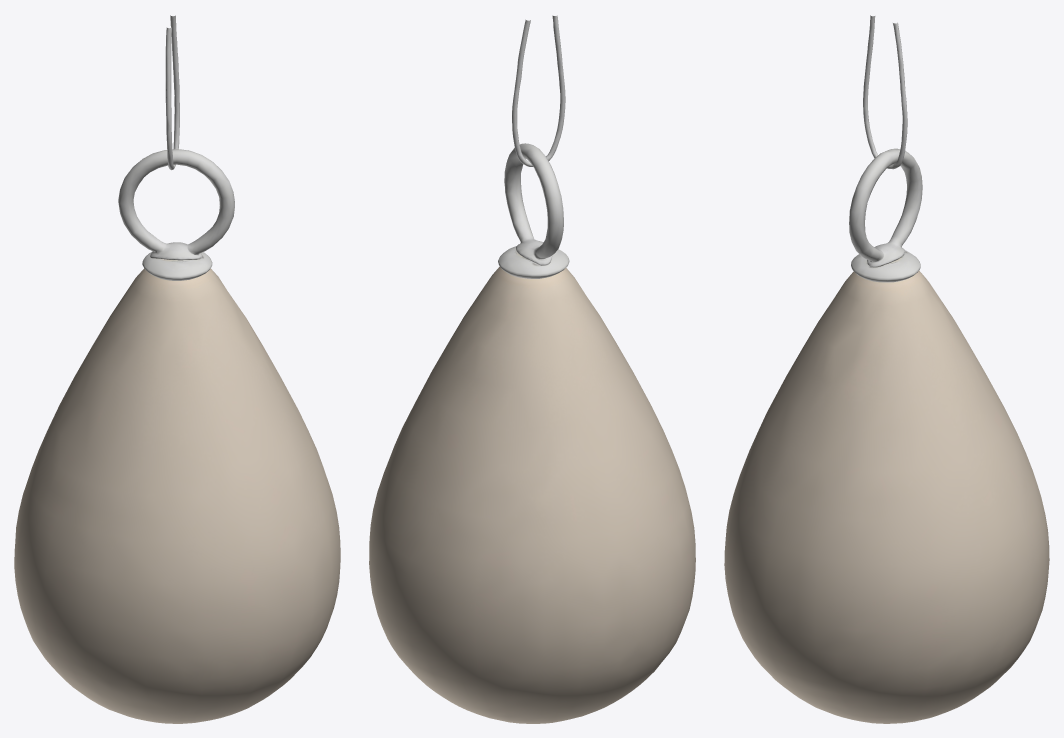
Rendered from soft-light-drop.glb.
3 renders of one model, left to right at view 1: azimuth 30°, elevation 25°; view 2: azimuth 150°, elevation 25°; view 3: azimuth 270°, elevation 25°, orthographic.
Visible parts, largest first — view 1: tripo_node_9af7ab7f-9b60-4ece-a36b-9994f3ad280a; view 2: tripo_node_9af7ab7f-9b60-4ece-a36b-9994f3ad280a; view 3: tripo_node_9af7ab7f-9b60-4ece-a36b-9994f3ad280a.
Part boxes in pixels (x1=…): tripo_node_9af7ab7f-9b60-4ece-a36b-9994f3ad280a: x1=14, y1=15, x2=340, y2=723; tripo_node_9af7ab7f-9b60-4ece-a36b-9994f3ad280a: x1=369, y1=15, x2=695, y2=723; tripo_node_9af7ab7f-9b60-4ece-a36b-9994f3ad280a: x1=724, y1=15, x2=1049, y2=723.
Size of the model in its own units: 0.4292 by 0.9995 by 0.4292.
1 material, 1 textured.
